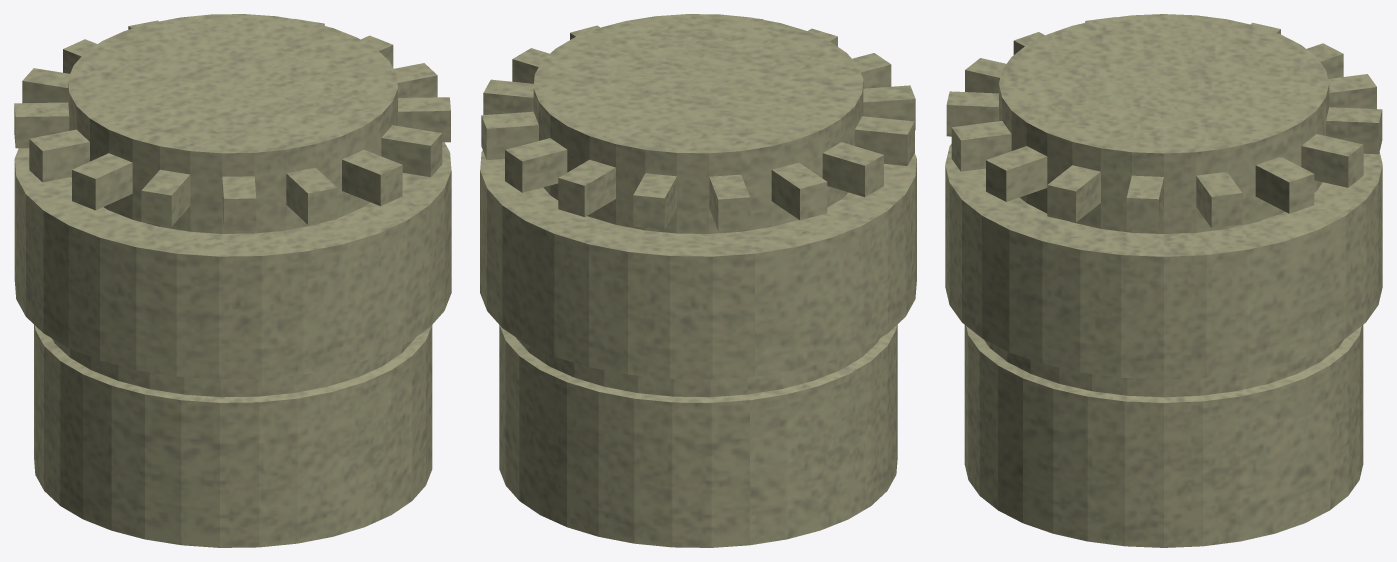
The model's file is RotateBridge.gltf.
3 views of the same model, side by side, from view 1: azimuth 30°, elevation 25°; view 2: azimuth 150°, elevation 25°; view 3: azimuth 270°, elevation 25° (orthographic).
Parts seen in each view (by area): view 1: 円柱, Gear; view 2: 円柱, Gear; view 3: 円柱, Gear.
Part boxes in pixels (x1,y1,x2,y2): 円柱: [14, 142, 451, 547]; Gear: [14, 14, 450, 233]; 円柱: [480, 150, 916, 547]; Gear: [481, 14, 915, 233]; 円柱: [945, 144, 1382, 547]; Gear: [946, 14, 1382, 233].
Size of the model in its own units: 4.91 by 4.7 by 4.91.
1 material, 1 textured.
